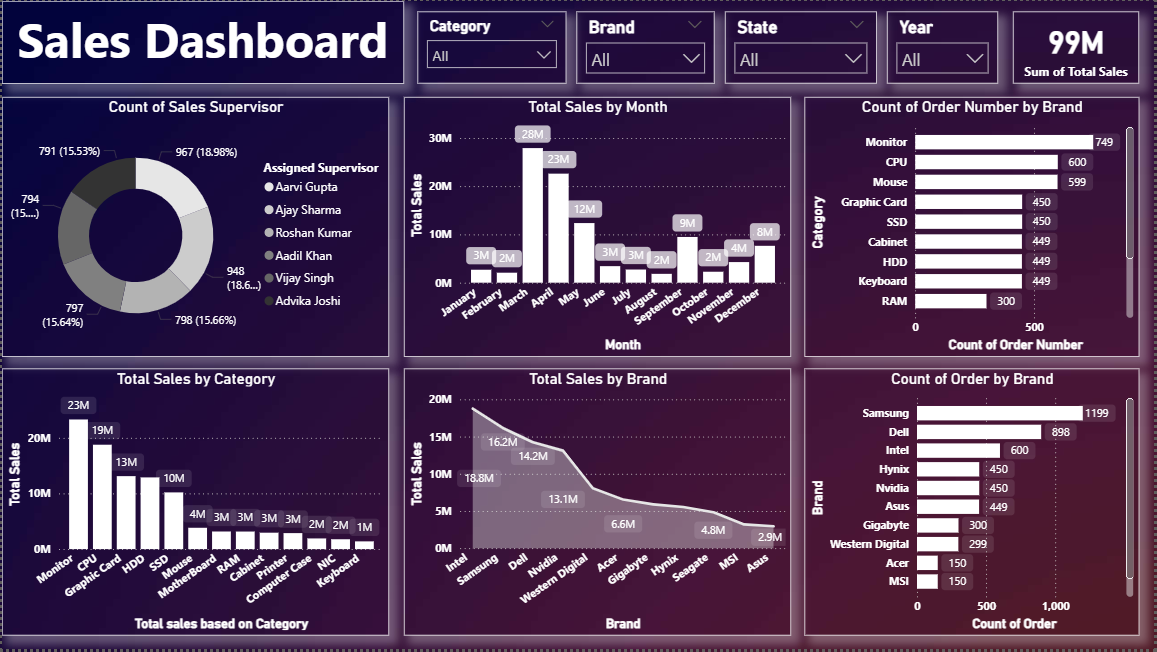

The page's visual inventory and layout, read from the dashboard file:
{"tool":"powerbi","page":{"name":"Page 1","canvas":[1280,720],"ordinal":0},"visuals":[{"type":"textbox","box":[0,0,446.7,91.7],"z":0},{"type":"clusteredColumnChart","fields":{"Category":["Sales_Data.Category"],"Y":["Sales_Data.Total_Sales"]},"box":[0,408.3,430,296.7],"z":1000},{"type":"stackedAreaChart","title":"Total Sales by Brand","fields":{"Category":["Sales_Data.Brand"],"Y":["Sales_Data.Total_Sales"]},"box":[446.7,408.3,430,296.7],"z":2000},{"type":"donutChart","title":"Count of Sales Supervisor ","fields":{"Category":["Sales_Data.Assigned Supervisor"],"Y":["Sales_Data.Assigned Supervisor"]},"box":[0,106.7,430,288.3],"z":3000},{"type":"slicer","fields":{"Values":["State_list.State"]},"box":[803.3,11.7,168.3,80],"z":3001},{"type":"slicer","fields":{"Values":["Sales_Data.Brand"]},"box":[638.3,11.7,153.3,80],"z":3002},{"type":"slicer","fields":{"Values":["Sales_Data.Category"]},"box":[461.7,11.7,165,80],"z":3003},{"type":"card","fields":{"Values":["Sales_Data.Total_Sales"]},"box":[1123.3,11.7,140,80],"z":3004},{"type":"clusteredBarChart","title":"Count of Order by Brand","fields":{"Category":["Sales_Data.Brand"],"Y":["Sales_Data.Order_Number"]},"box":[891.7,408.3,371.7,296.7],"z":3005},{"type":"clusteredBarChart","title":"Count of Order Number by Brand","fields":{"Category":["Sales_Data.Category"],"Y":["Sales_Data.Order_Number"]},"box":[891.7,106.7,371.7,288.3],"z":3006},{"type":"slicer","fields":{"Values":["Sales_Data.Order_Date.Variation.Date Hierarchy.Year"]},"box":[983.3,11.7,123.3,80],"z":3007},{"type":"lineClusteredColumnComboChart","fields":{"Category":["Sales_Data.Order_Date.Variation.Date Hierarchy.Month"],"Y":["Sales_Data.Total_Sales"]},"box":[446.7,106.7,430,288.3],"z":3008}]}

Visuals, with their boxes in screenshot pixels (x1, y1, x2, y2), scaled from the page's 1280x720 canvas onto the 1157x652 screenshot:
textbox: [x1=0, y1=0, x2=404, y2=83]
clusteredColumnChart - Sales_Data.Category x Sales_Data.Total_Sales: [x1=0, y1=370, x2=389, y2=638]
"Total Sales by Brand" stackedAreaChart: [x1=404, y1=370, x2=792, y2=638]
"Count of Sales Supervisor " donutChart: [x1=0, y1=97, x2=389, y2=358]
slicer - State_list.State: [x1=726, y1=11, x2=878, y2=83]
slicer - Sales_Data.Brand: [x1=577, y1=11, x2=716, y2=83]
slicer - Sales_Data.Category: [x1=417, y1=11, x2=566, y2=83]
card - Sales_Data.Total_Sales: [x1=1015, y1=11, x2=1142, y2=83]
"Count of Order by Brand" clusteredBarChart: [x1=806, y1=370, x2=1142, y2=638]
"Count of Order Number by Brand" clusteredBarChart: [x1=806, y1=97, x2=1142, y2=358]
slicer - Sales_Data.Order_Date.Variation.Date Hierarchy.Year: [x1=889, y1=11, x2=1000, y2=83]
lineClusteredColumnComboChart - Sales_Data.Order_Date.Variation.Date Hierarchy.Month x Sales_Data.Total_Sales: [x1=404, y1=97, x2=792, y2=358]
